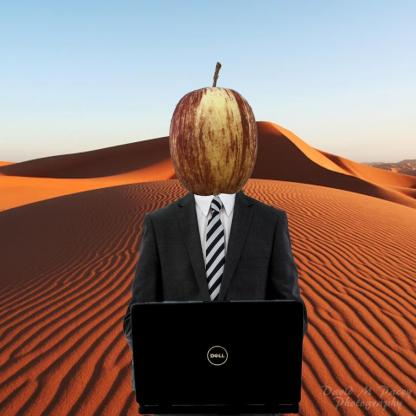board: (125, 281, 309, 405)
